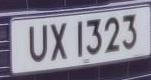1: (72, 17, 87, 63)
2: (103, 12, 123, 59)
3: (84, 15, 104, 60), (120, 10, 139, 55)
U: (26, 22, 48, 66)
X: (49, 19, 71, 65)
